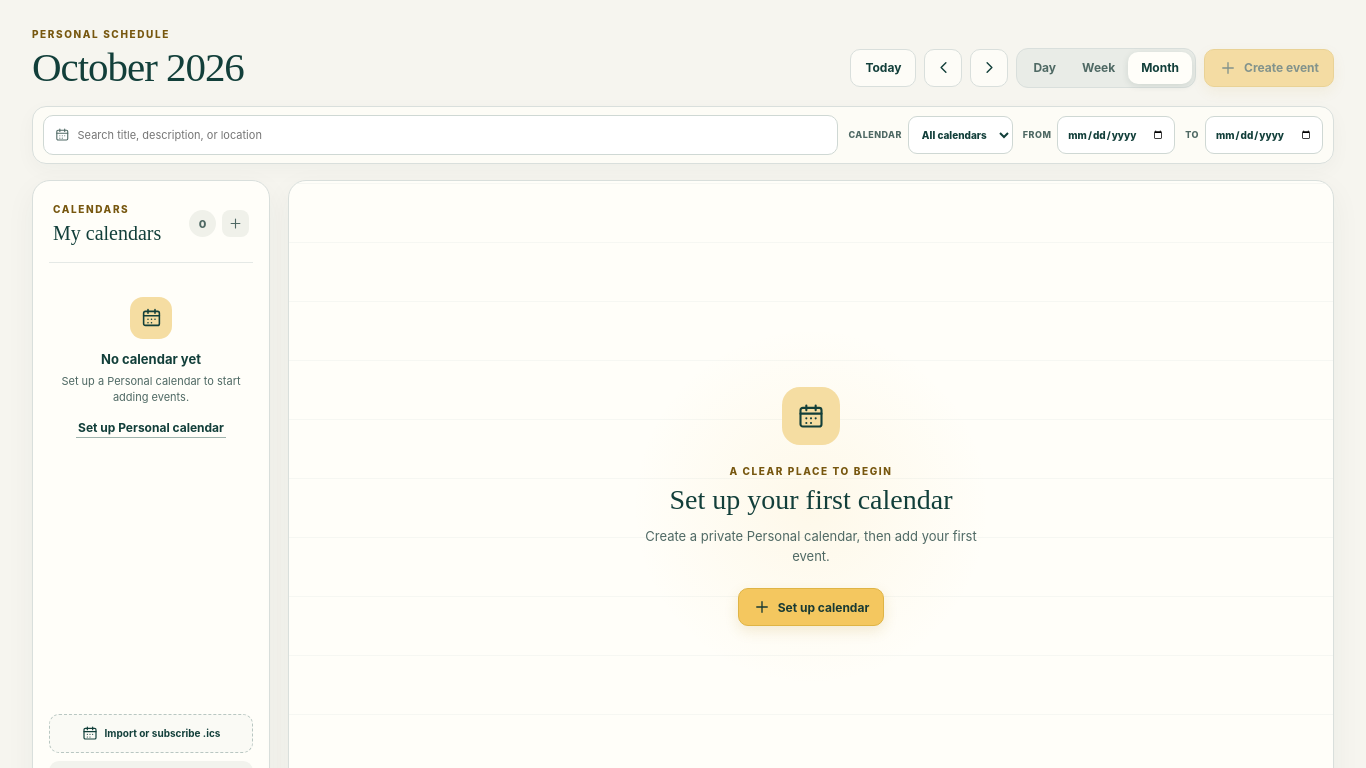
Test case: CalendarPage › sets up a first personal calendar from the empty state
Expected: the heading "Set up your first calendar" is shown, [670, 484, 952, 516]
Click the button "Set up calendar" at (811, 607), box [738, 588, 884, 626]
(page scrolled)
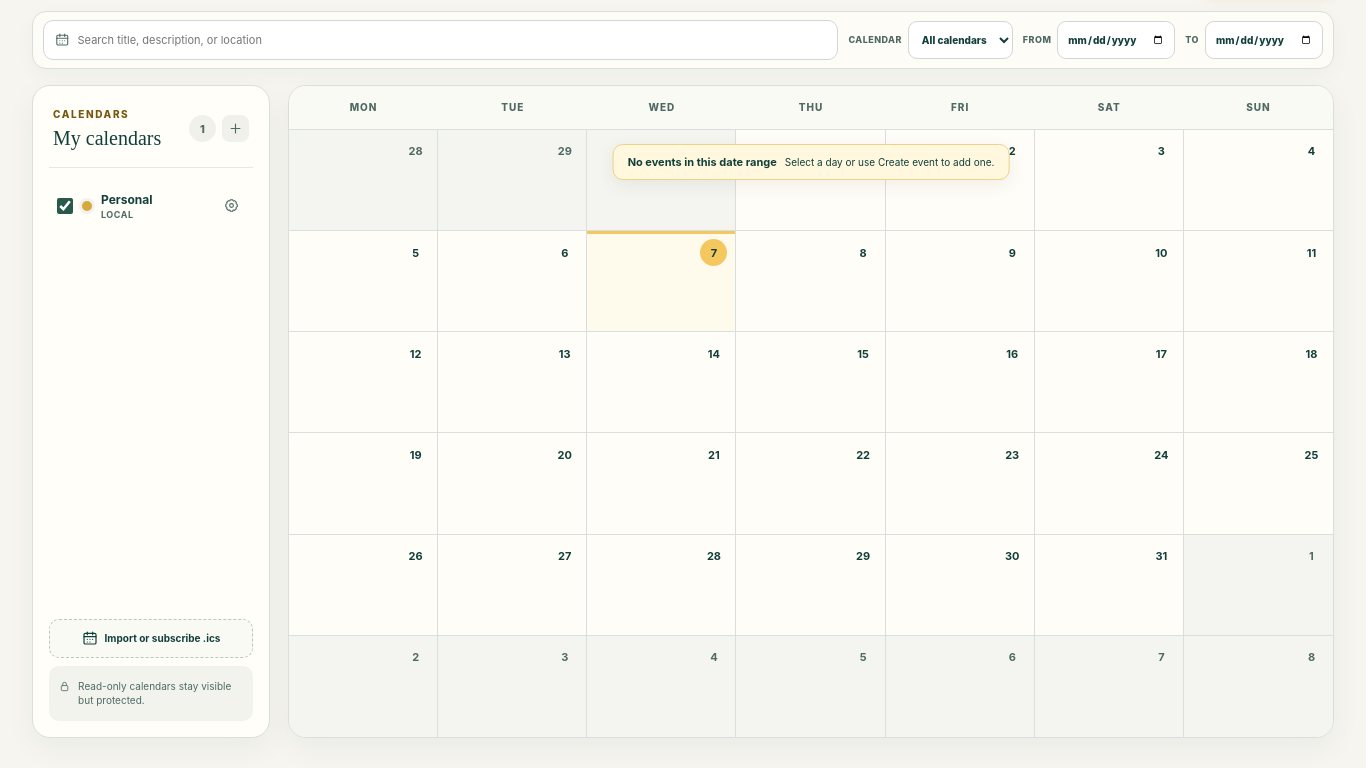
Now the checkbox named "Show Personal" is shown, box [57, 198, 73, 214]
Now the element named "Month calendar" is shown
